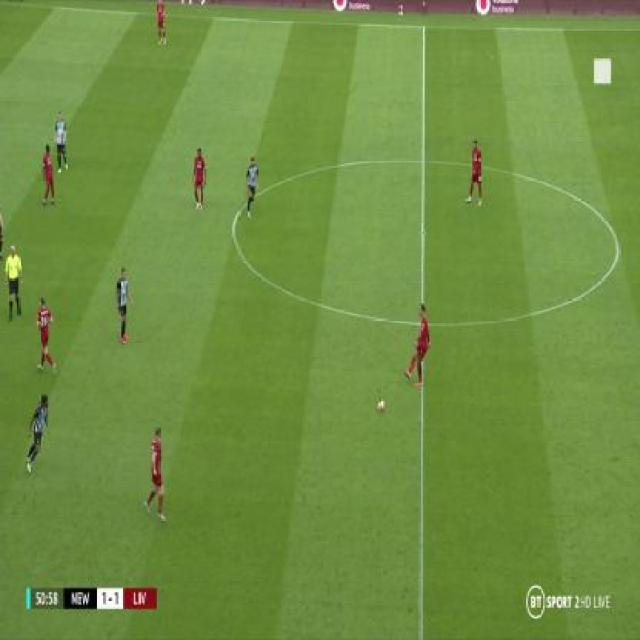ball: (378, 397, 386, 411)
player: (143, 425, 168, 524), (23, 390, 52, 475), (404, 301, 432, 387), (35, 294, 58, 379), (114, 265, 136, 344), (4, 244, 24, 323), (465, 137, 484, 208), (242, 154, 261, 220), (191, 146, 208, 212), (53, 108, 70, 173), (40, 144, 56, 207), (155, 0, 169, 45), (0, 202, 5, 259)
